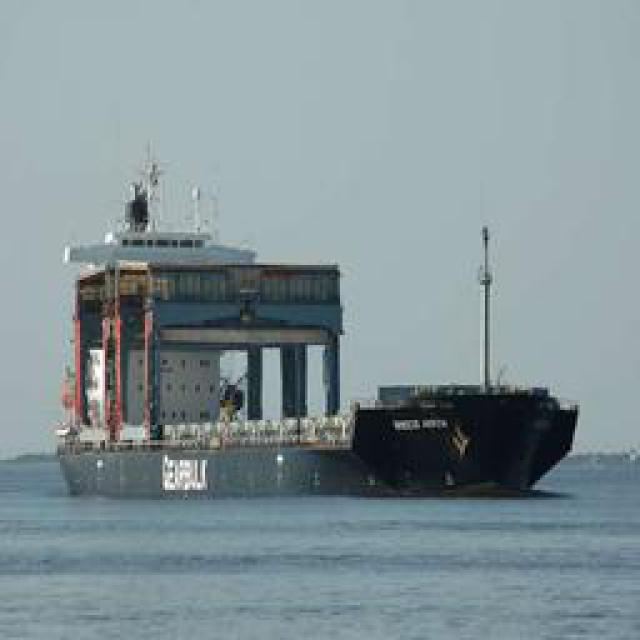Ship: (53, 212, 580, 505)
